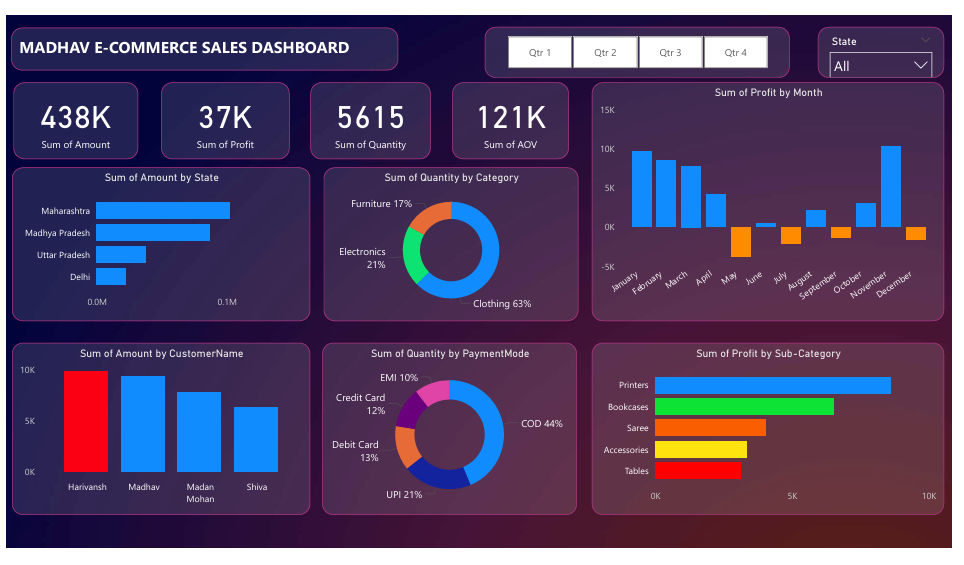

This screenshot's page, from the dashboard's own definition file:
{"tool":"powerbi","page":{"name":"Page 1","canvas":[1280,720],"ordinal":0},"visuals":[{"type":"textbox","box":[6,16,524,58],"z":0},{"type":"columnChart","fields":{"Y":["Details.Profit"],"Category":["Orders.Order Date.Variation.Date Hierarchy.Month"]},"box":[791.8,90.2,477.3,323.3],"z":1000},{"type":"barChart","fields":{"Category":["Details.Sub-Category"],"Y":["Details.Profit"]},"box":[791.8,442.1,477.3,233.1],"z":2000},{"type":"donutChart","fields":{"Y":["Details.Quantity"],"Category":["Details.PaymentMode"]},"box":[426.7,442.1,345.3,233.1],"z":3000},{"type":"donutChart","fields":{"Category":["Details.Category"],"Y":["Details.Quantity"]},"box":[428.9,204.5,345.3,208.9],"z":4000},{"type":"card","fields":{"Values":["Details.Amount"]},"box":[8.8,90.2,169.3,103.4],"z":5000},{"type":"card","fields":{"Values":["Details.Quantity"]},"box":[411.3,90.2,162.8,103.4],"z":6000},{"type":"card","fields":{"Values":["Details.Profit"]},"box":[208.9,90.2,173.7,103.4],"z":7000},{"type":"card","fields":{"Values":["Details.AOV"]},"box":[602.6,90.2,158.3,103.4],"z":8000},{"type":"barChart","fields":{"Category":["Orders.State"],"Y":["Details.Amount"]},"box":[6.6,204.5,404.7,208.9],"z":9000},{"type":"columnChart","fields":{"Category":["Orders.CustomerName"],"Y":["Details.Amount"]},"box":[6.6,442.1,404.7,233.1],"z":10000},{"type":"slicer","fields":{"Values":["Orders.Order Date.Variation.Date Hierarchy.Quarter"]},"box":[646.6,15.4,413.5,68.2],"z":11000},{"type":"slicer","fields":{"Values":["Orders.State"]},"box":[1097.5,15.4,171.6,68.2],"z":12000}]}

Visuals, with their boxes on the page's 1280x720 design canvas (x1, y1, x2, y2). These are canvas units, not pixel positions in the 964x565 screenshot, which may show the page scaled, cropped or inside an application window:
textbox: BBox(6, 16, 530, 74)
columnChart - Details.Profit x Orders.Order Date.Variation.Date Hierarchy.Month: BBox(792, 90, 1269, 414)
barChart - Details.Sub-Category x Details.Profit: BBox(792, 442, 1269, 675)
donutChart - Details.Quantity x Details.PaymentMode: BBox(427, 442, 772, 675)
donutChart - Details.Category x Details.Quantity: BBox(429, 204, 774, 413)
card - Details.Amount: BBox(9, 90, 178, 194)
card - Details.Quantity: BBox(411, 90, 574, 194)
card - Details.Profit: BBox(209, 90, 383, 194)
card - Details.AOV: BBox(603, 90, 761, 194)
barChart - Orders.State x Details.Amount: BBox(7, 204, 411, 413)
columnChart - Orders.CustomerName x Details.Amount: BBox(7, 442, 411, 675)
slicer - Orders.Order Date.Variation.Date Hierarchy.Quarter: BBox(647, 15, 1060, 84)
slicer - Orders.State: BBox(1098, 15, 1269, 84)
